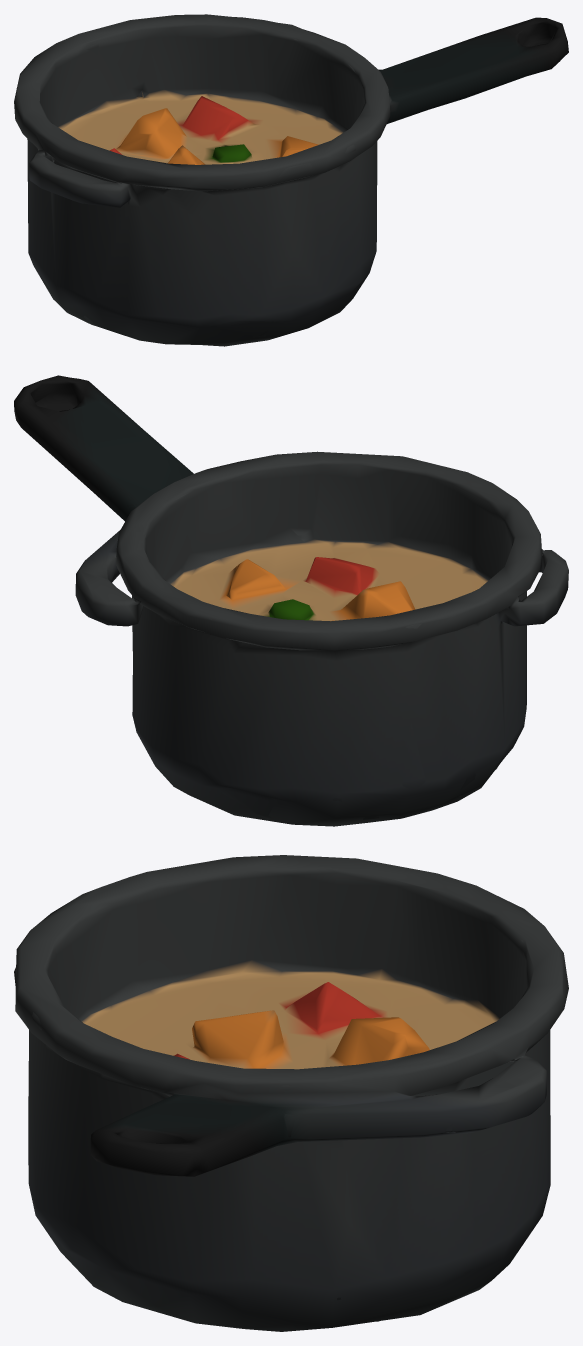
File: gen3d-cooking-lod0.glb
3 renders of one model, top to bottom at view 1: azimuth 30°, elevation 25°; view 2: azimuth 150°, elevation 25°; view 3: azimuth 270°, elevation 25°, orthographic. The views are drawn at different scales.
Parts seen in each view (by area): view 1: part_0; view 2: part_0; view 3: part_0.
Part boxes in pixels (x1=…): part_0: x1=14, y1=14, x2=568, y2=346; part_0: x1=14, y1=375, x2=568, y2=826; part_0: x1=14, y1=855, x2=568, y2=1331.
Bounding box in the file's own units: 2.38 × 1 × 1.59.
